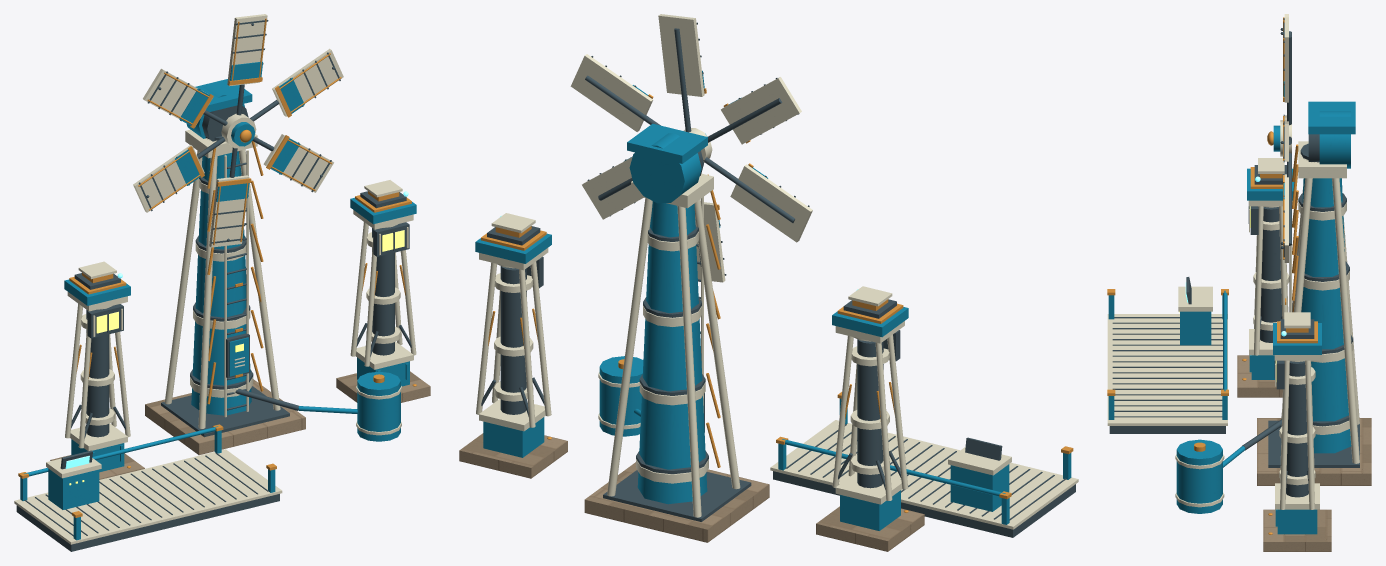
File: frontier-utilities-DUn0e5_R.glb
The picture shows the model from 3 angles, left to right: view 1: azimuth 30°, elevation 25°; view 2: azimuth 150°, elevation 25°; view 3: azimuth 270°, elevation 25°; orthographic projection. The views are drawn at different scales.
Visible parts, largest first — view 1: utilities-farm-ivory-painted-metal, utilities-farm-blue-painted-metal, utilities-farm-dark-steel, rotor-farm-ivory-painted-metal, utilities-farm-foundation-stone, rotor-farm-blue-painted-metal, utilities-farm-copper-fittings, rotor-farm-copper-fittings, rotor-farm-dark-steel, utilities-farm-warm-lamps; view 2: utilities-farm-ivory-painted-metal, utilities-farm-blue-painted-metal, utilities-farm-dark-steel, rotor-farm-ivory-painted-metal, utilities-farm-foundation-stone, utilities-farm-copper-fittings, rotor-farm-dark-steel; view 3: utilities-farm-ivory-painted-metal, utilities-farm-blue-painted-metal, utilities-farm-dark-steel, utilities-farm-foundation-stone, utilities-farm-copper-fittings, rotor-farm-ivory-painted-metal, rotor-farm-dark-steel, rotor-farm-copper-fittings.
Boxes of the visible parts, box(x1,y1,x2,y2) form: utilities-farm-ivory-painted-metal: box(14, 129, 416, 544); utilities-farm-blue-painted-metal: box(20, 79, 416, 540); utilities-farm-dark-steel: box(16, 105, 411, 551); rotor-farm-ivory-painted-metal: box(133, 14, 343, 247); utilities-farm-foundation-stone: box(50, 371, 430, 479); rotor-farm-blue-painted-metal: box(175, 61, 304, 201); utilities-farm-copper-fittings: box(18, 141, 416, 517); rotor-farm-copper-fittings: box(138, 18, 341, 245); rotor-farm-dark-steel: box(138, 20, 340, 243); utilities-farm-warm-lamps: box(69, 230, 404, 485); utilities-farm-ivory-painted-metal: box(476, 173, 1078, 529); utilities-farm-blue-painted-metal: box(475, 123, 1071, 530); utilities-farm-dark-steel: box(481, 150, 1075, 537); rotor-farm-ivory-painted-metal: box(570, 14, 812, 282); utilities-farm-foundation-stone: box(459, 433, 924, 551); utilities-farm-copper-fittings: box(481, 174, 1073, 512); rotor-farm-dark-steel: box(585, 22, 809, 275); utilities-farm-ivory-painted-metal: box(1107, 141, 1359, 509); utilities-farm-blue-painted-metal: box(1108, 101, 1355, 534); utilities-farm-dark-steel: box(1109, 134, 1359, 497); utilities-farm-foundation-stone: box(1237, 355, 1371, 551); utilities-farm-copper-fittings: box(1107, 144, 1317, 534); rotor-farm-ivory-painted-metal: box(1280, 14, 1291, 262); rotor-farm-dark-steel: box(1280, 18, 1291, 257); rotor-farm-copper-fittings: box(1267, 17, 1284, 259).
Bounding box in the file's own units: 12.62 × 11.53 × 6.27.
Materials: 7 (4 with a texture image).
